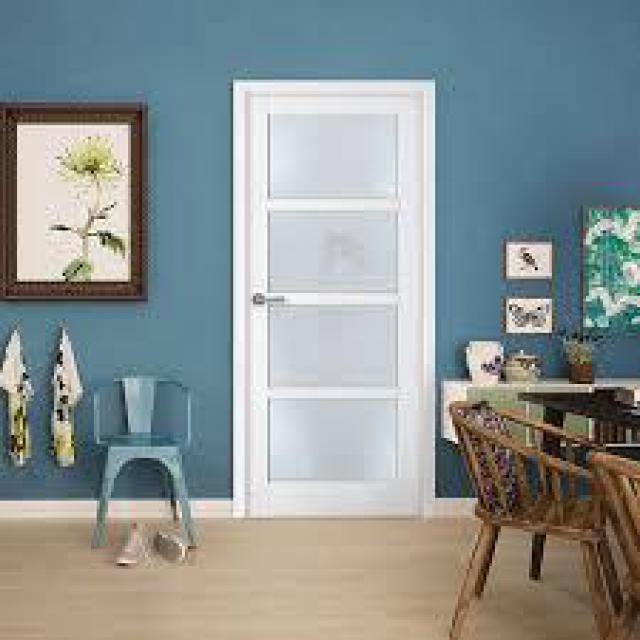door: (234, 79, 432, 519)
